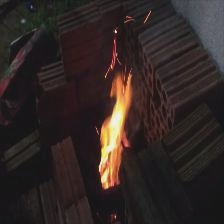fire: (85, 34, 145, 204)
